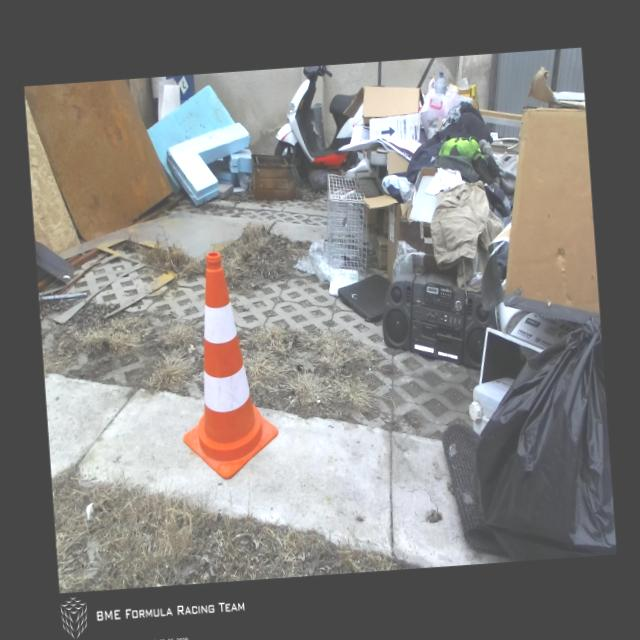large_orange_cone: (170, 247, 280, 481)
